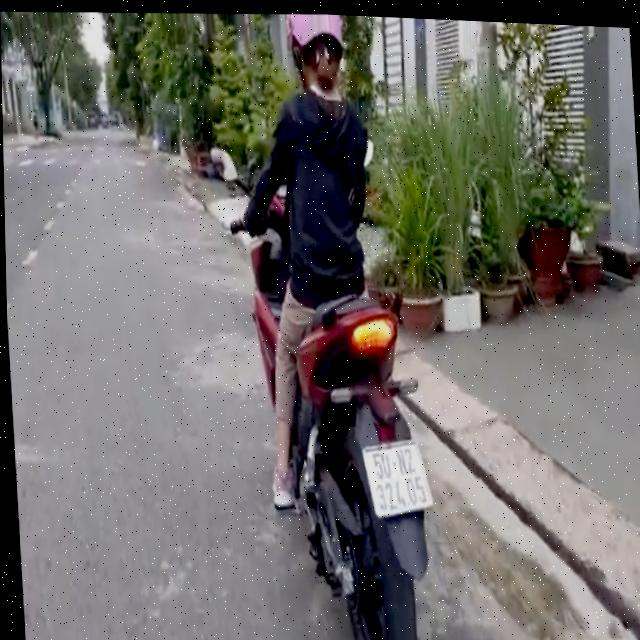motorcycle: (204, 122, 451, 640)
plate: (359, 435, 434, 523)
